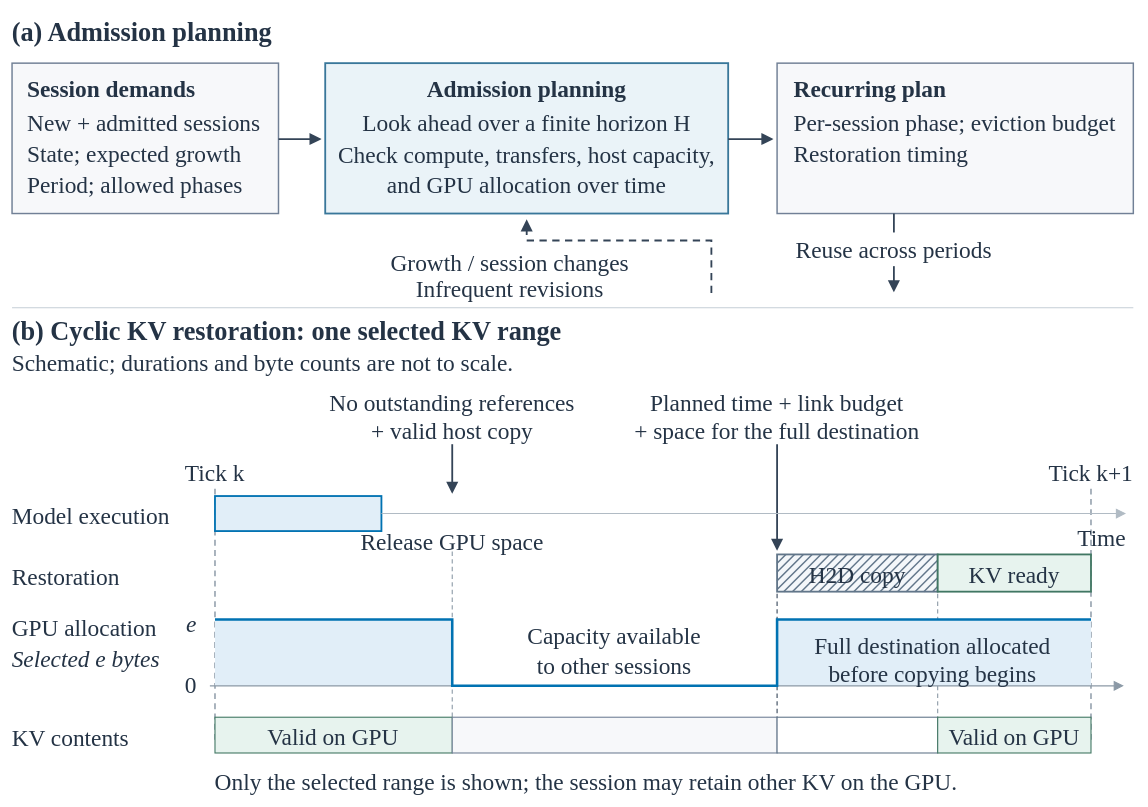
The diagram is 1148 pixels wide and 807 high, and some of its shapes have lost their labels. Here are the shapes that lost their labels. From the top down, the centre of each, then its label:
pixel 298 513: Micro-turn k
pixel 614 734: Valid host copy
pixel 857 734: Copying
